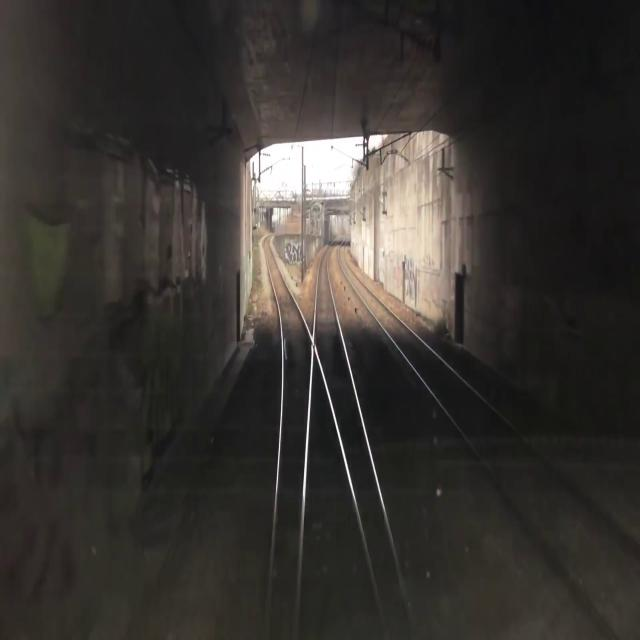rail-track: (339, 238, 640, 639), (314, 237, 414, 639), (299, 349, 385, 639), (263, 233, 311, 639)
